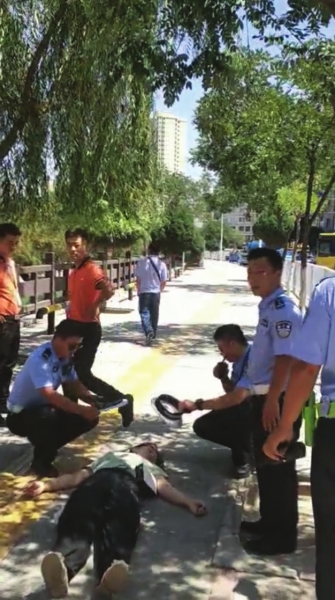fall: (26, 423, 204, 599)
